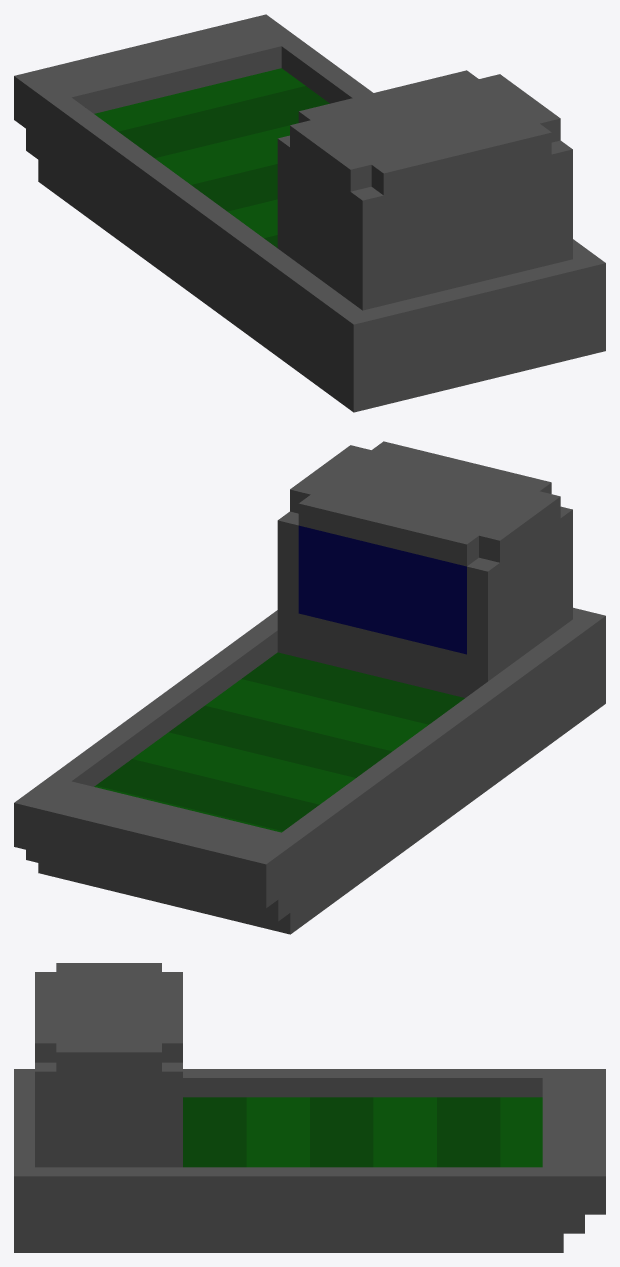
The model's file is TRANSPORT.fbx.
The picture shows the model from 3 angles, top to bottom: view 1: azimuth 30°, elevation 25°; view 2: azimuth 150°, elevation 25°; view 3: azimuth 270°, elevation 25°; orthographic projection. The views are drawn at different scales.
Parts seen in each view (by area): view 1: node_a146fe0c_a23c_4a12_a5d8_cd08b74fdc71_mesh0; view 2: node_a146fe0c_a23c_4a12_a5d8_cd08b74fdc71_mesh0; view 3: node_a146fe0c_a23c_4a12_a5d8_cd08b74fdc71_mesh0.
Part boxes in pixels (<box>): node_a146fe0c_a23c_4a12_a5d8_cd08b74fdc71_mesh0: <box>14,14,605,412</box>; node_a146fe0c_a23c_4a12_a5d8_cd08b74fdc71_mesh0: <box>14,441,605,934</box>; node_a146fe0c_a23c_4a12_a5d8_cd08b74fdc71_mesh0: <box>14,963,605,1252</box>.
Size of the model in its own units: 1200 by 1000 by 2800.
1 material, 1 textured.
